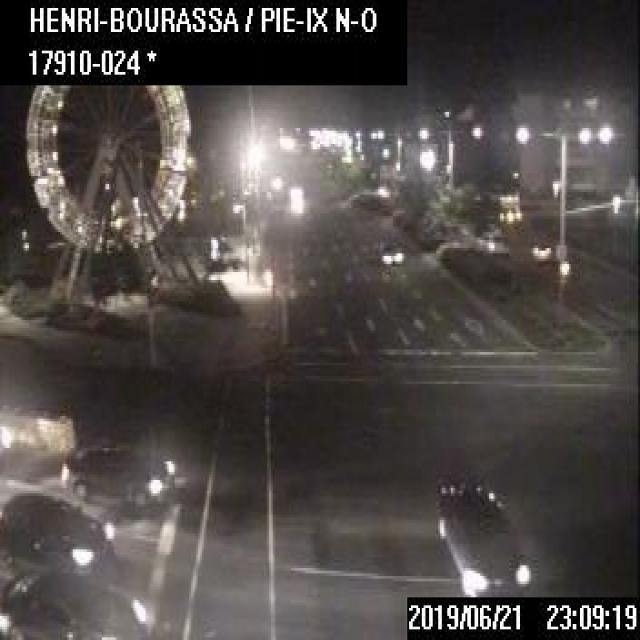vehicle: (435, 482, 529, 594), (0, 574, 144, 638), (0, 492, 113, 572), (60, 438, 174, 504), (374, 235, 404, 264), (498, 192, 521, 222), (529, 237, 551, 259), (487, 235, 508, 253)
